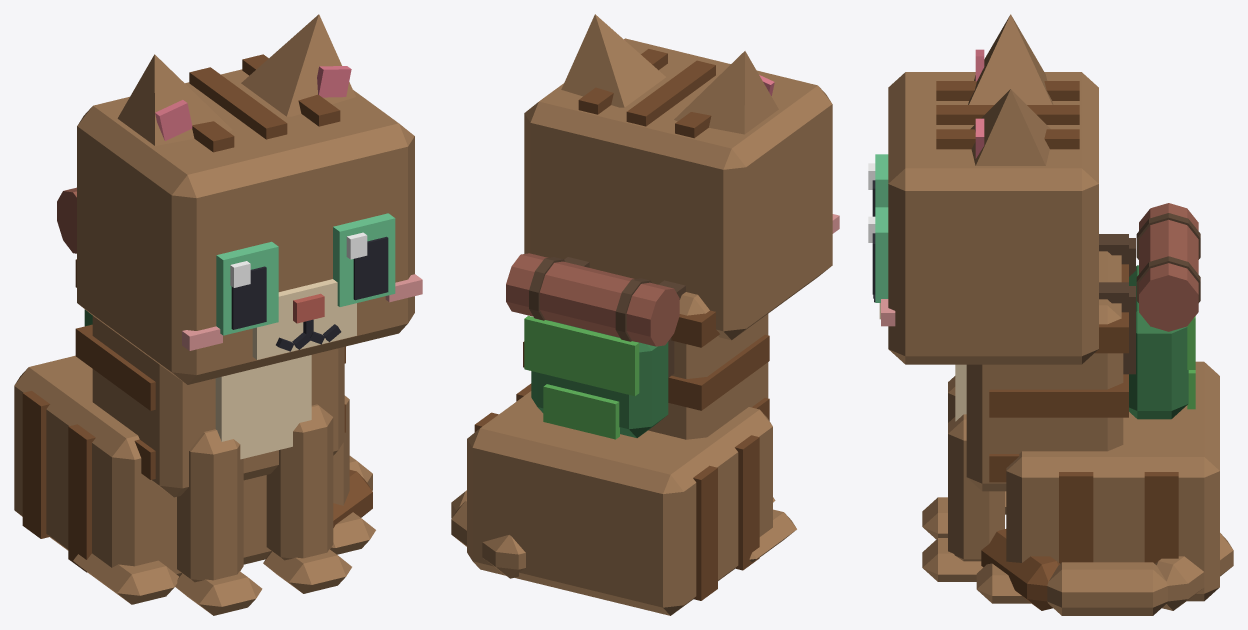
File: CatCafe_Cat_Pinecone_Sit.glb
The picture shows the model from 3 angles, left to right: view 1: azimuth 30°, elevation 25°; view 2: azimuth 150°, elevation 25°; view 3: azimuth 270°, elevation 25°; orthographic projection. The views are drawn at different scales.
Visible parts, largest first — view 1: CatCafe_Cat_Pinecone_Sit_Head, CatCafe_Cat_Pinecone_Sit_Body, CatCafe_Cat_Pinecone_Sit_LegF2, CatCafe_Cat_Pinecone_Sit_LegF1, CatCafe_Cat_Pinecone_Sit_EarL, CatCafe_Cat_Pinecone_Sit_Eye2, CatCafe_Cat_Pinecone_Sit_Eye1, CatCafe_Cat_Pinecone_Sit_EarR, CatCafe_Cat_Pinecone_Sit_Tail, CatCafe_Cat_Pinecone_Sit_Prop; view 2: CatCafe_Cat_Pinecone_Sit_Head, CatCafe_Cat_Pinecone_Sit_Body, CatCafe_Cat_Pinecone_Sit_Prop, CatCafe_Cat_Pinecone_Sit_EarL, CatCafe_Cat_Pinecone_Sit_EarR, CatCafe_Cat_Pinecone_Sit_Tail; view 3: CatCafe_Cat_Pinecone_Sit_Head, CatCafe_Cat_Pinecone_Sit_Body, CatCafe_Cat_Pinecone_Sit_Prop, CatCafe_Cat_Pinecone_Sit_Tail, CatCafe_Cat_Pinecone_Sit_LegF1, CatCafe_Cat_Pinecone_Sit_EarL, CatCafe_Cat_Pinecone_Sit_EarR, CatCafe_Cat_Pinecone_Sit_Eye1, CatCafe_Cat_Pinecone_Sit_LegF2, CatCafe_Cat_Pinecone_Sit_Eye2.
Boxes of the visible parts, box(x1,y1,x2,y2) form: CatCafe_Cat_Pinecone_Sit_Head: box(77, 54, 422, 384); CatCafe_Cat_Pinecone_Sit_Body: box(14, 259, 375, 604); CatCafe_Cat_Pinecone_Sit_LegF2: box(175, 429, 262, 615); CatCafe_Cat_Pinecone_Sit_LegF1: box(263, 404, 351, 593); CatCafe_Cat_Pinecone_Sit_EarL: box(241, 14, 355, 116); CatCafe_Cat_Pinecone_Sit_Eye2: box(216, 241, 278, 335); CatCafe_Cat_Pinecone_Sit_Eye1: box(333, 213, 395, 306); CatCafe_Cat_Pinecone_Sit_EarR: box(117, 54, 232, 145); CatCafe_Cat_Pinecone_Sit_Tail: box(333, 456, 372, 527); CatCafe_Cat_Pinecone_Sit_Prop: box(57, 187, 92, 326); CatCafe_Cat_Pinecone_Sit_Head: box(524, 38, 839, 340); CatCafe_Cat_Pinecone_Sit_Body: box(467, 292, 796, 615); CatCafe_Cat_Pinecone_Sit_Prop: box(506, 253, 685, 439); CatCafe_Cat_Pinecone_Sit_EarL: box(561, 14, 665, 107); CatCafe_Cat_Pinecone_Sit_EarR: box(674, 51, 778, 134); CatCafe_Cat_Pinecone_Sit_Tail: box(451, 490, 525, 578); CatCafe_Cat_Pinecone_Sit_Head: box(873, 72, 1098, 364); CatCafe_Cat_Pinecone_Sit_Body: box(955, 251, 1219, 603); CatCafe_Cat_Pinecone_Sit_Prop: box(1099, 203, 1200, 419); CatCafe_Cat_Pinecone_Sit_Tail: box(981, 529, 1233, 615); CatCafe_Cat_Pinecone_Sit_LegF1: box(922, 414, 1004, 581); CatCafe_Cat_Pinecone_Sit_EarL: box(970, 89, 1050, 165); CatCafe_Cat_Pinecone_Sit_EarR: box(968, 14, 1053, 104); CatCafe_Cat_Pinecone_Sit_Eye1: box(868, 207, 888, 302); CatCafe_Cat_Pinecone_Sit_LegF2: box(922, 376, 955, 539); CatCafe_Cat_Pinecone_Sit_Eye2: box(868, 154, 888, 216).
Size of the model in its own units: 1.05 by 1.85 by 1.22.
1 material, 1 textured.
